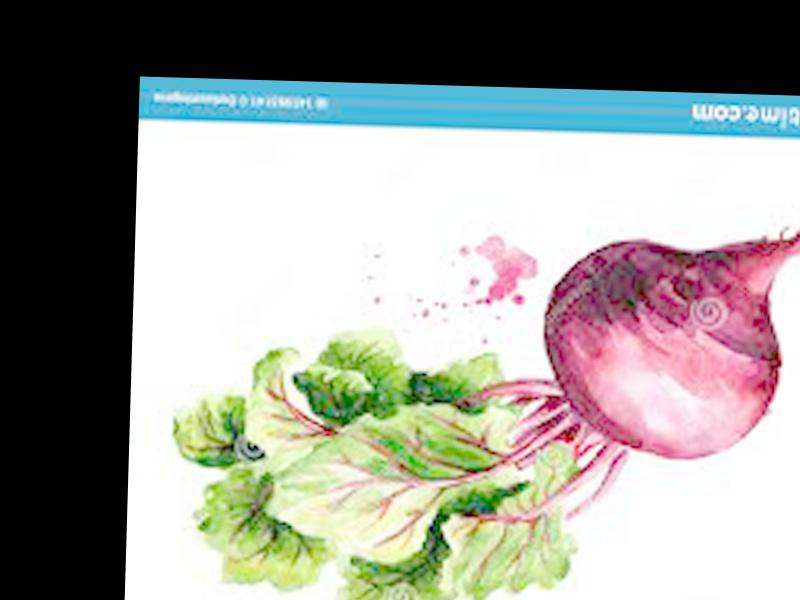Beet: (164, 196, 800, 600)
